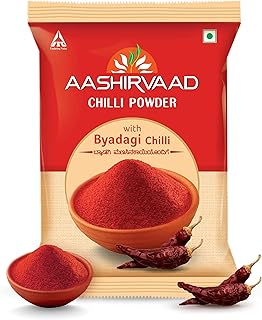Chilli Powder: (3, 1, 262, 320)
